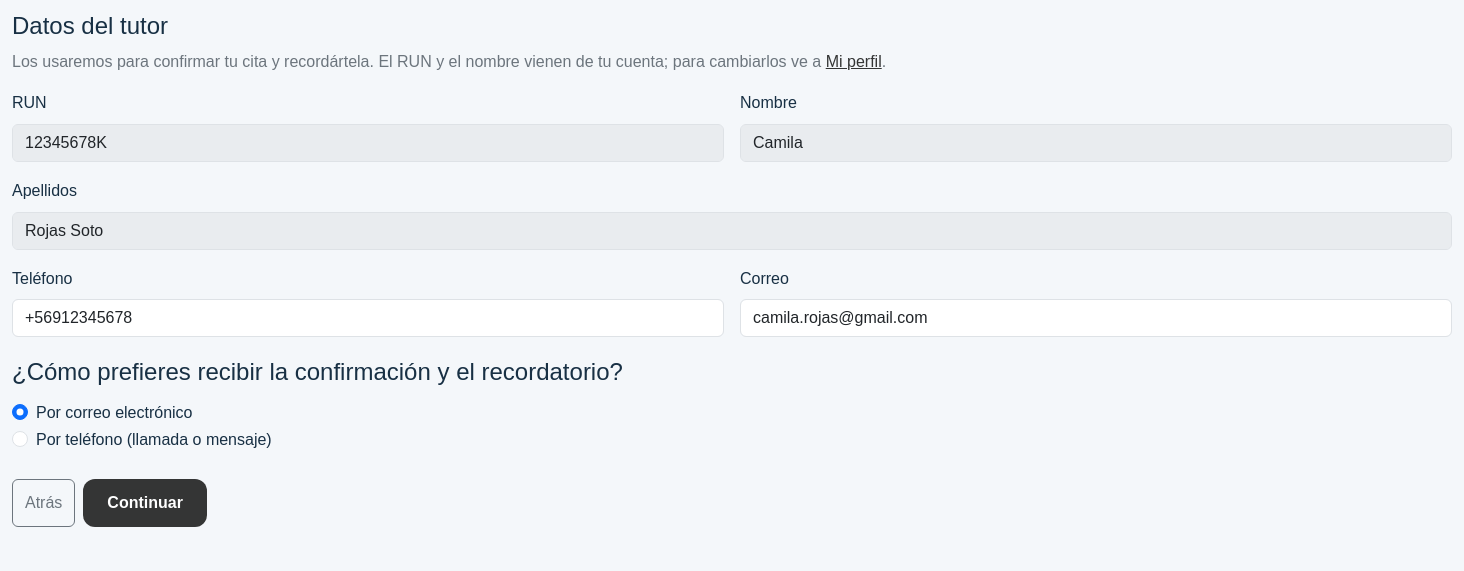
Test: PasoTutor › rechaza un correo sin @
Replace the text in the field labelled "Correo" with "camila.correo.cl" at (1096, 318), box x1=740 y1=299 x2=1452 y2=337
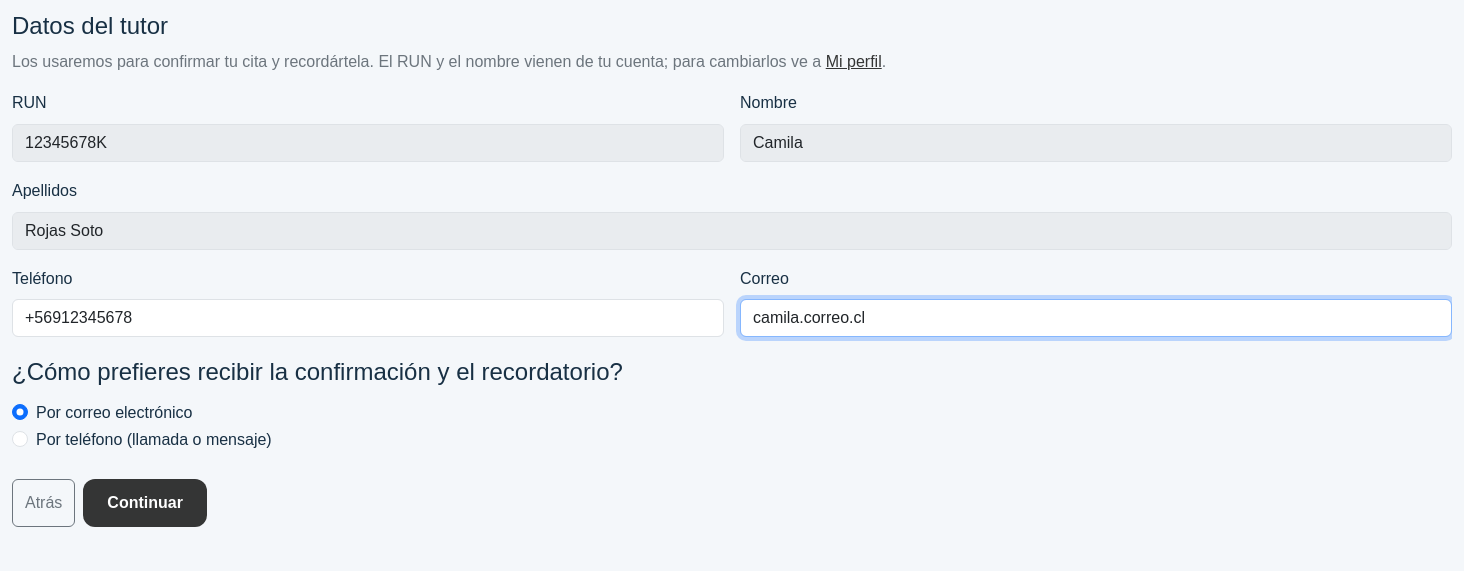
Click the button "Continuar".
click(145, 503)  # box x1=83 y1=479 x2=207 y2=527
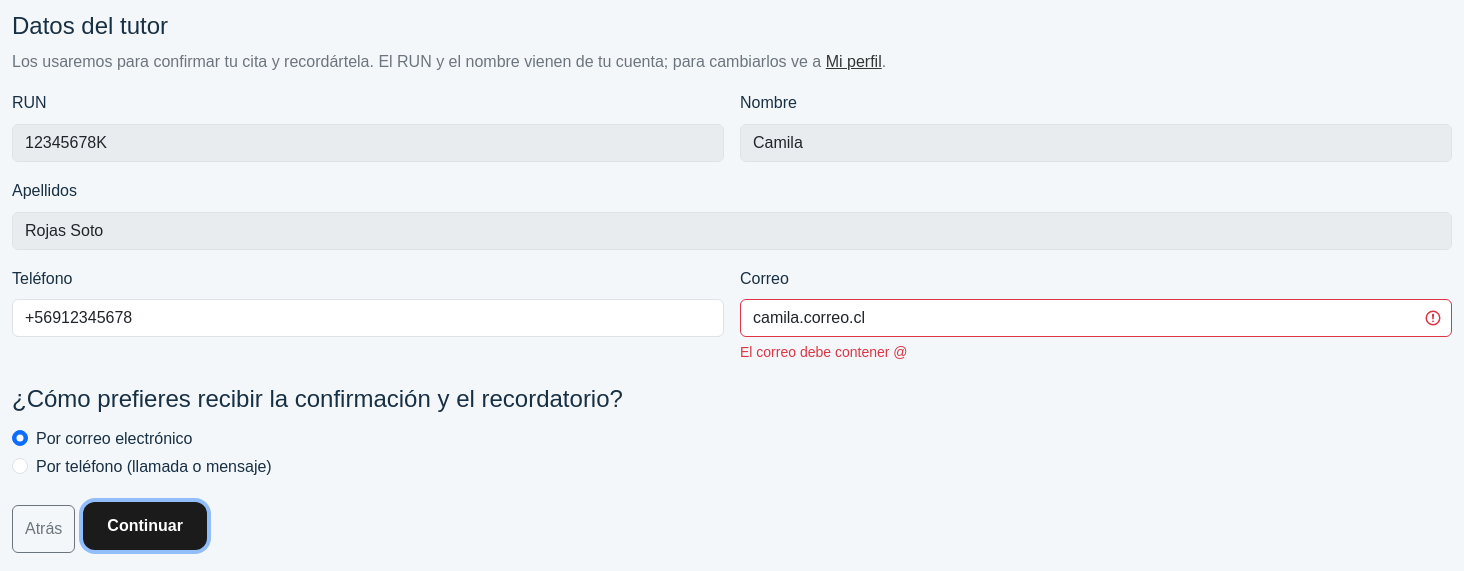
expect the text "El correo debe contener @" is shown: met, box x1=740 y1=344 x2=908 y2=360
